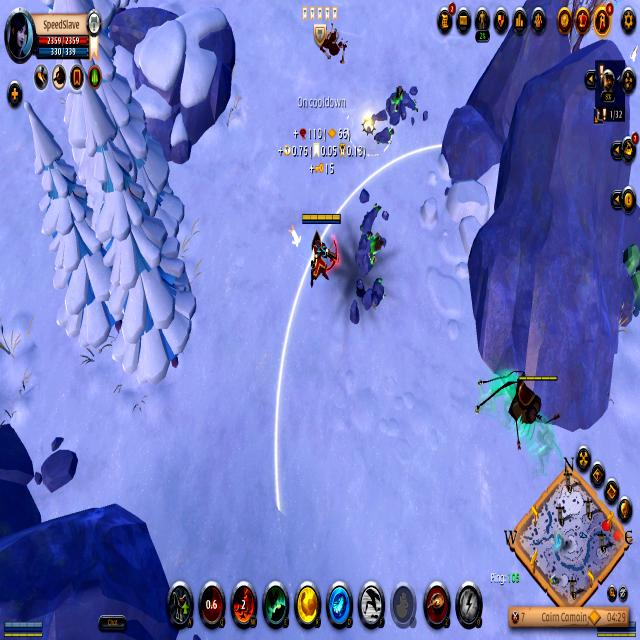player: (348, 187, 397, 330), (368, 72, 431, 146)
red: (299, 207, 342, 294)
tree: (623, 240, 640, 328)
